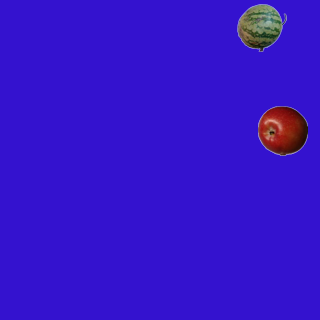Apple Braeburn: (257, 105, 307, 155)
Watermelon: (236, 2, 286, 52)
